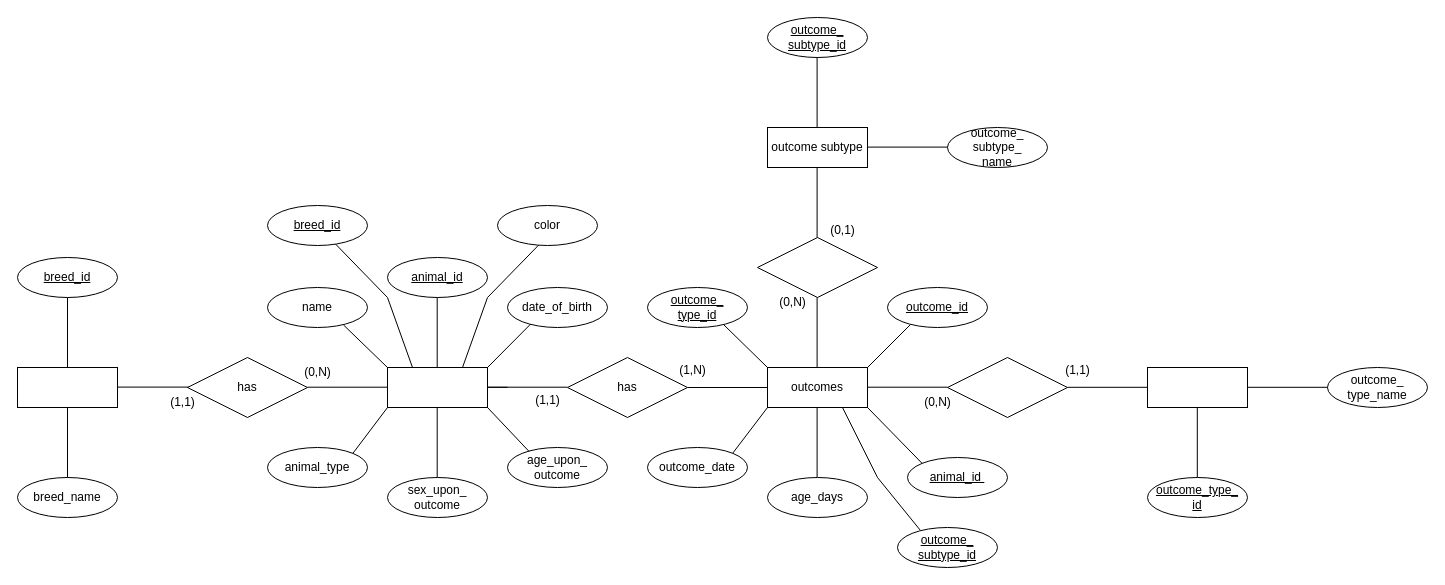
This 1445x585 diagram has some shape labels left out. The centre of each missing label's shape, as x and y in pixels:
animals: the point at 437,387
breeds: the point at 67,387
is-of-subtype: the point at 817,267
is-of-type: the point at 1007,387
outcome types: the point at 1197,387
